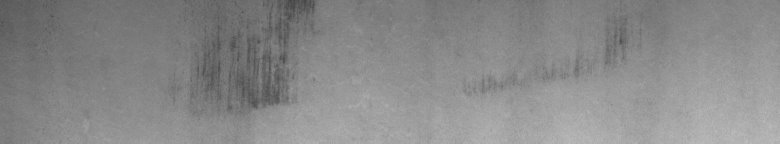ka: (191, 4, 316, 112)
